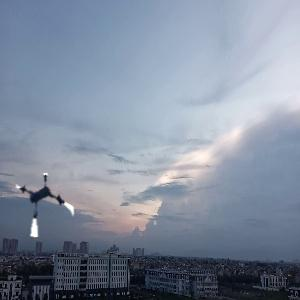drone: (11, 174, 78, 241)
